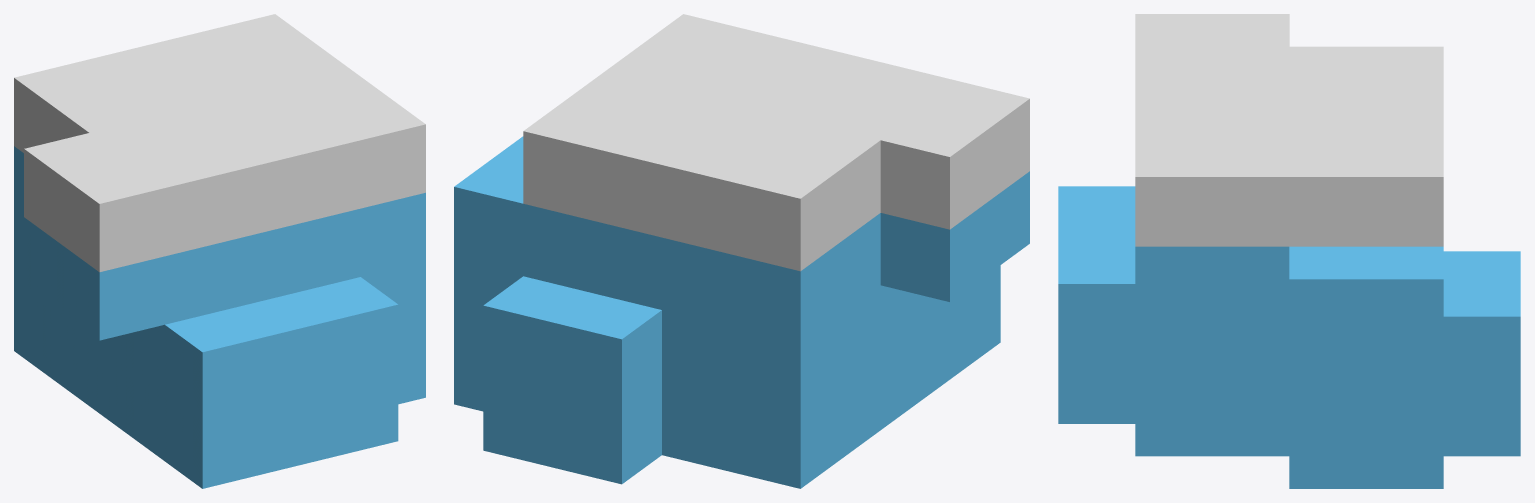
The model's file is IceChunk.gltf.
The picture shows the model from 3 angles, left to right: view 1: azimuth 30°, elevation 25°; view 2: azimuth 150°, elevation 25°; view 3: azimuth 270°, elevation 25°; orthographic projection. The views are drawn at different scales.
Bounding box in the file's own units: 6 × 4 × 6.
1 material, 1 textured.
